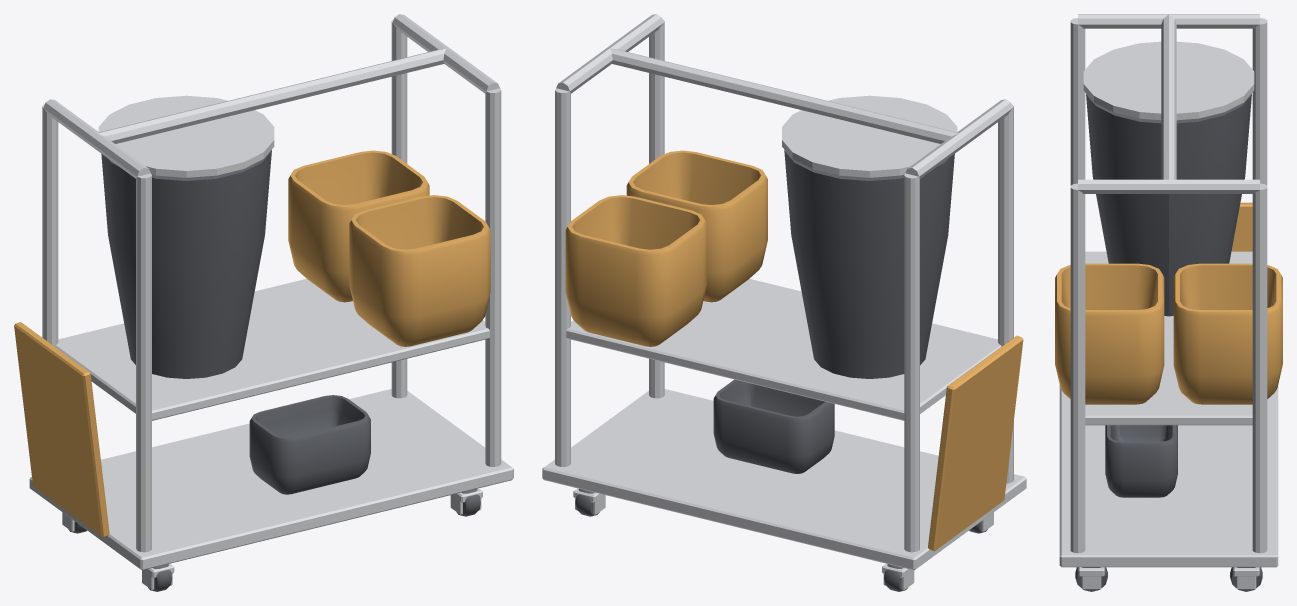
Rendered from office-lobby-and-facilities-janitorial-trolley-c9198992__26257.glb.
3 views of the same model, side by side, from view 1: azimuth 30°, elevation 25°; view 2: azimuth 150°, elevation 25°; view 3: azimuth 270°, elevation 25° (orthographic). The views are drawn at different scales.
Visible parts, largest first — view 1: janitorial-trolley; view 2: janitorial-trolley; view 3: janitorial-trolley.
Boxes of the visible parts, <box> form: janitorial-trolley: <box>14,14,513,591</box>; janitorial-trolley: <box>542,14,1026,591</box>; janitorial-trolley: <box>1055,14,1282,591</box>.
Size of the model in its own units: 0.9874 by 1.02 by 0.5.
